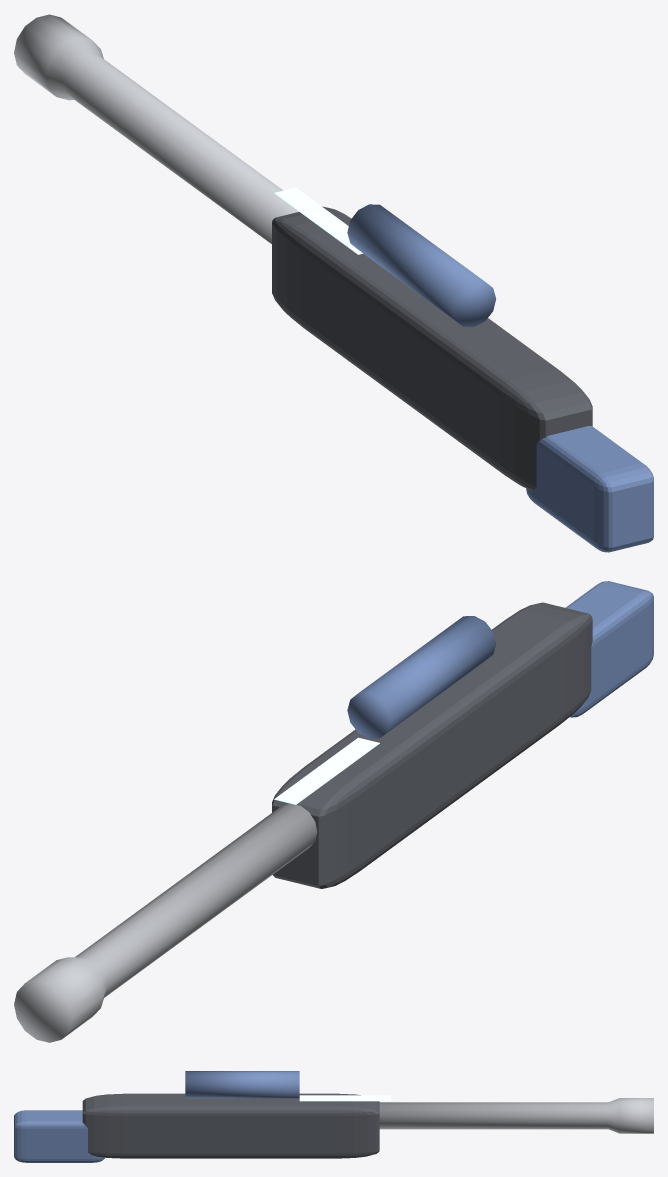
The model's file is weapon_rifle.glb.
The picture shows the model from 3 angles, top to bottom: view 1: azimuth 30°, elevation 25°; view 2: azimuth 150°, elevation 25°; view 3: azimuth 270°, elevation 25°; orthographic projection. The views are drawn at different scales.
Visible parts, largest first — view 1: body, barrel, stock, scope, glow; view 2: body, barrel, scope, stock, glow; view 3: body, barrel, stock, scope, glow.
Part boxes in pixels (x1,y1,x2,y2): body: [272, 206, 592, 489]; barrel: [14, 14, 298, 243]; stock: [526, 426, 653, 552]; scope: [347, 204, 495, 326]; glow: [274, 187, 362, 254]; body: [272, 602, 592, 888]; barrel: [14, 803, 317, 1042]; scope: [347, 616, 495, 738]; stock: [565, 581, 653, 717]; glow: [274, 737, 379, 804]; body: [82, 1093, 379, 1158]; barrel: [379, 1098, 653, 1133]; stock: [14, 1110, 104, 1162]; scope: [185, 1071, 299, 1098]; glow: [299, 1095, 390, 1101].
Bounding box in the file's own units: 0.595 × 1.39 × 9.52.
